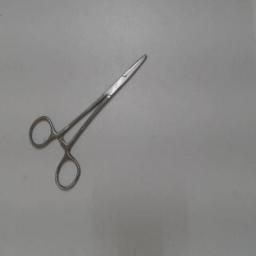Mayo Needle Holder: (22, 37, 160, 199)
